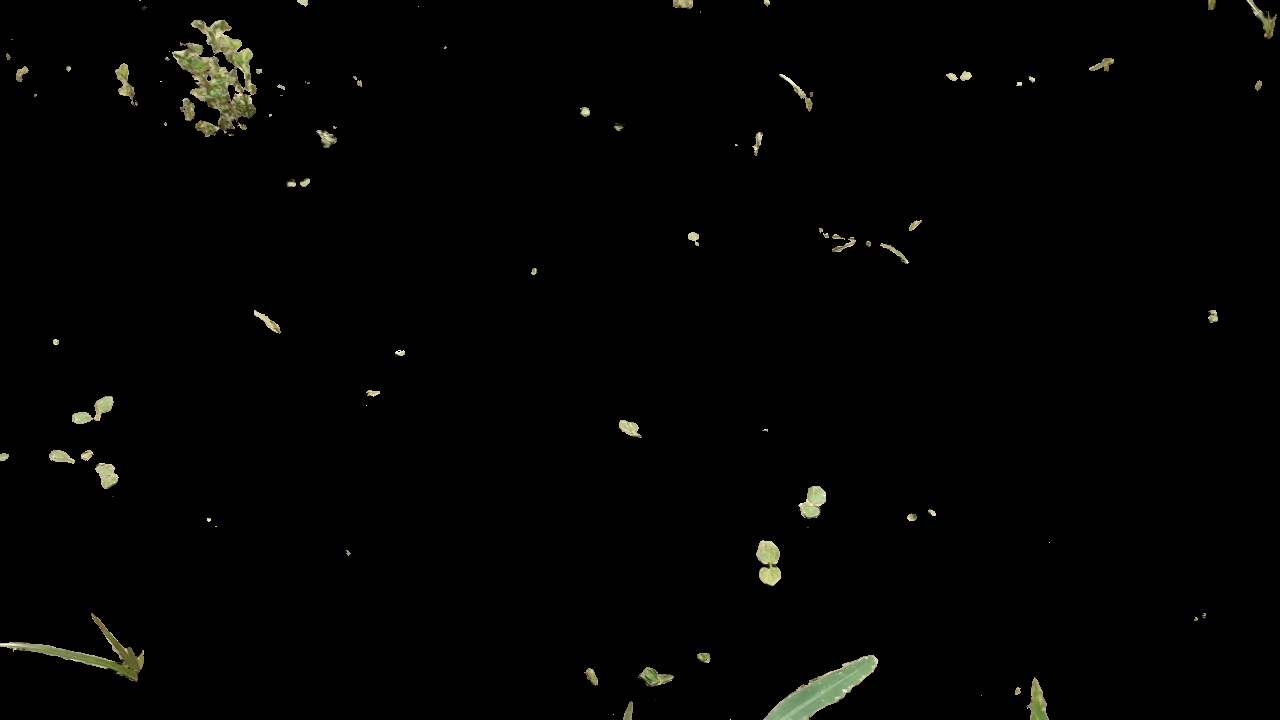crop: (526, 635, 938, 720)
weed: (105, 17, 283, 155), (1, 598, 158, 682), (1209, 2, 1280, 61), (45, 442, 126, 487), (63, 392, 122, 428), (755, 537, 789, 594), (636, 659, 679, 692), (799, 488, 833, 524), (615, 414, 644, 448), (945, 61, 976, 88), (682, 229, 708, 249)
